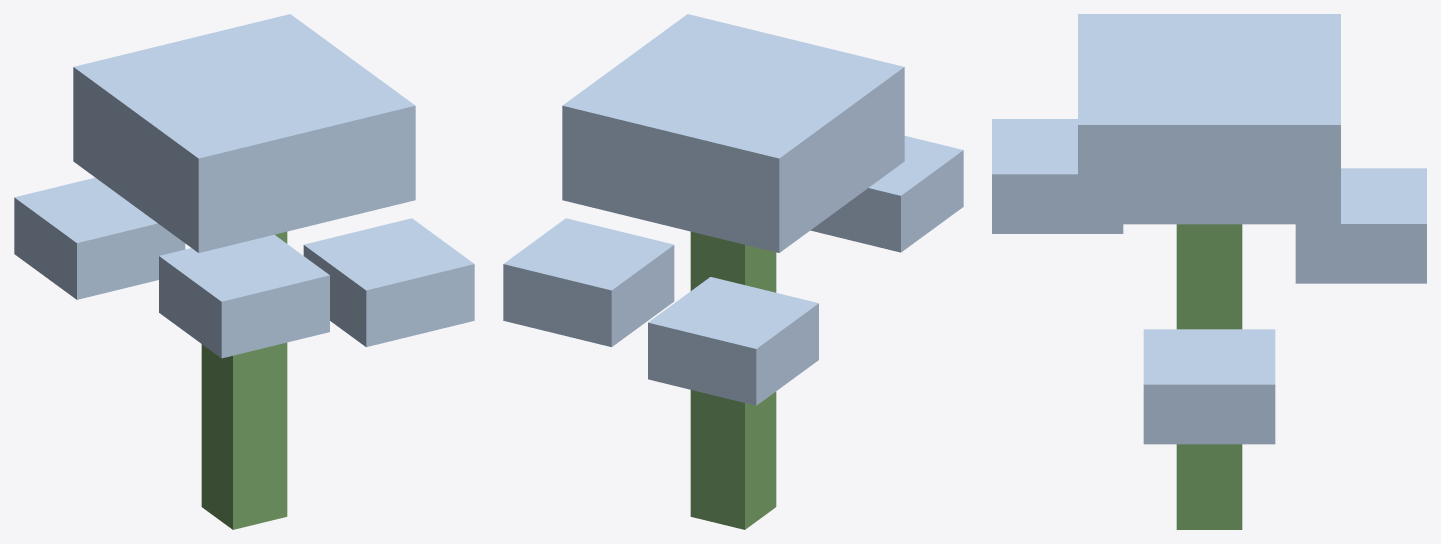
The model's file is Prop_DS_Herb_LatencyLily_S2.glb.
3 views of the same model, side by side, from view 1: azimuth 30°, elevation 25°; view 2: azimuth 150°, elevation 25°; view 3: azimuth 270°, elevation 25° (orthographic). The views are drawn at different scales.
Visible parts, largest first — view 1: Cube.004, Cube.003, Cube.001, Cube, Cube.002; view 2: Cube.004, Cube.001, Cube.002, Cube, Cube.003; view 3: Cube.004, Cube.001, Cube, Cube.002, Cube.003.
Part boxes in pixels (<box>): Cube.004: <box>73,14,415,252</box>; Cube.003: <box>159,234,329,358</box>; Cube.001: <box>303,218,474,347</box>; Cube: <box>201,231,287,529</box>; Cube.002: <box>14,177,185,299</box>; Cube.004: <box>562,14,904,252</box>; Cube.001: <box>503,218,674,347</box>; Cube.002: <box>648,277,818,405</box>; Cube: <box>690,231,776,529</box>; Cube.003: <box>810,136,963,252</box>; Cube.004: <box>1078,14,1340,224</box>; Cube.001: <box>1143,329,1275,444</box>; Cube: <box>1176,224,1242,529</box>; Cube.002: <box>1295,168,1426,283</box>; Cube.003: <box>992,119,1123,233</box>.
Bounding box in the file's own units: 0.36 × 0.45 × 0.3971.
